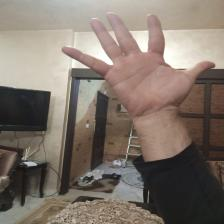five: (61, 12, 216, 110)
